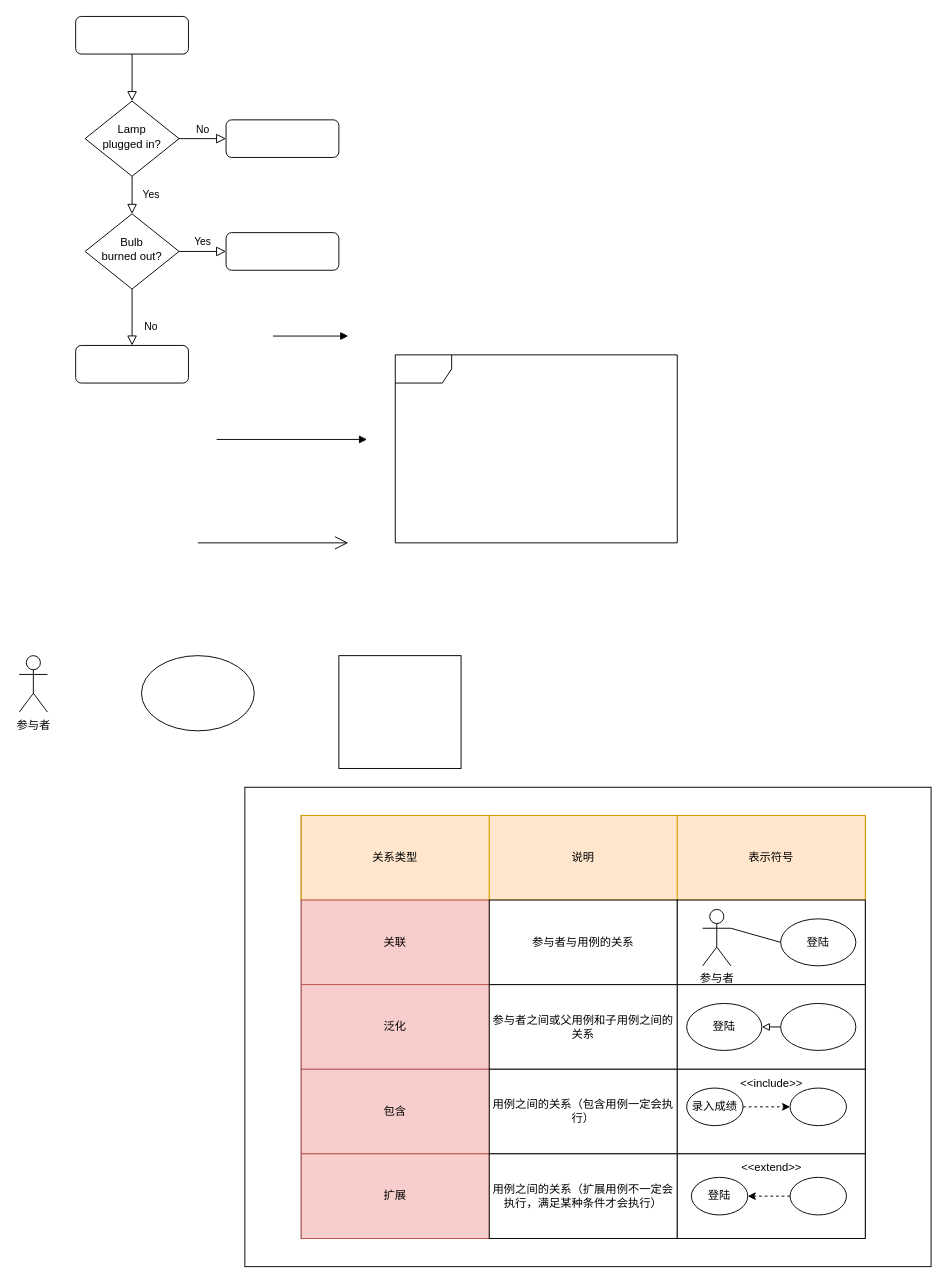
Some shapes in this 948 by 1283 pixel diagram are drawn without their labels. Each missing label, with the centre of its shape:
"frame" belongs at point 535,448.
"Lamp doesn't work" belongs at point 131,35.
"Plug in lamp" belongs at point 282,138.
"Repair Lamp" belongs at point 131,364.
"Replace Bulb" belongs at point 282,251.
"保存成绩" belongs at point 817,1106.
"微信登陆" belongs at point 818,1026.
"忘记密码" belongs at point 817,1195.
"用例" belongs at point 197,693.
"系统名称" belongs at point 399,711.
